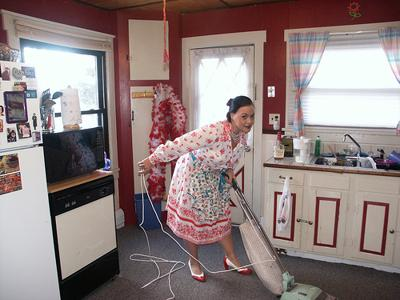person: (138, 97, 257, 283)
